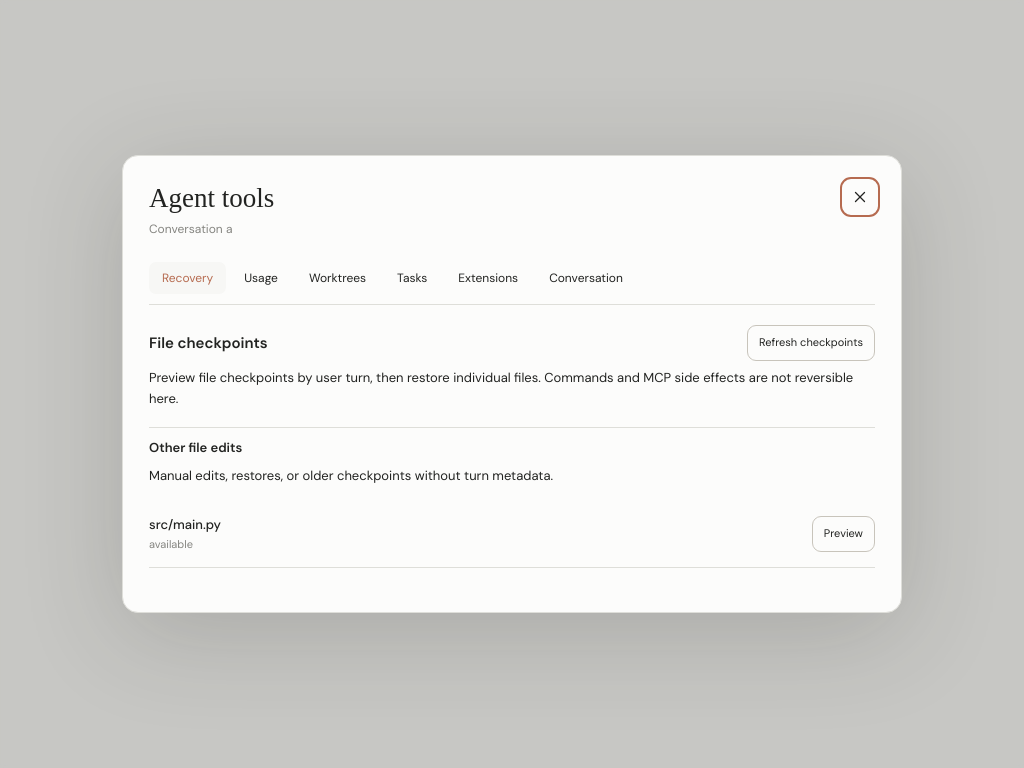
Test case: shows a separate per-conversation usage graph and estimated DBU cost
Check: the button with aria-label "Preview checkpoint src/main.py" is shown, box x1=812 y1=516 x2=875 y2=552
Click the button "Usage" at (261, 278), box x1=231 y1=262 x2=291 y2=294
(page scrolled)
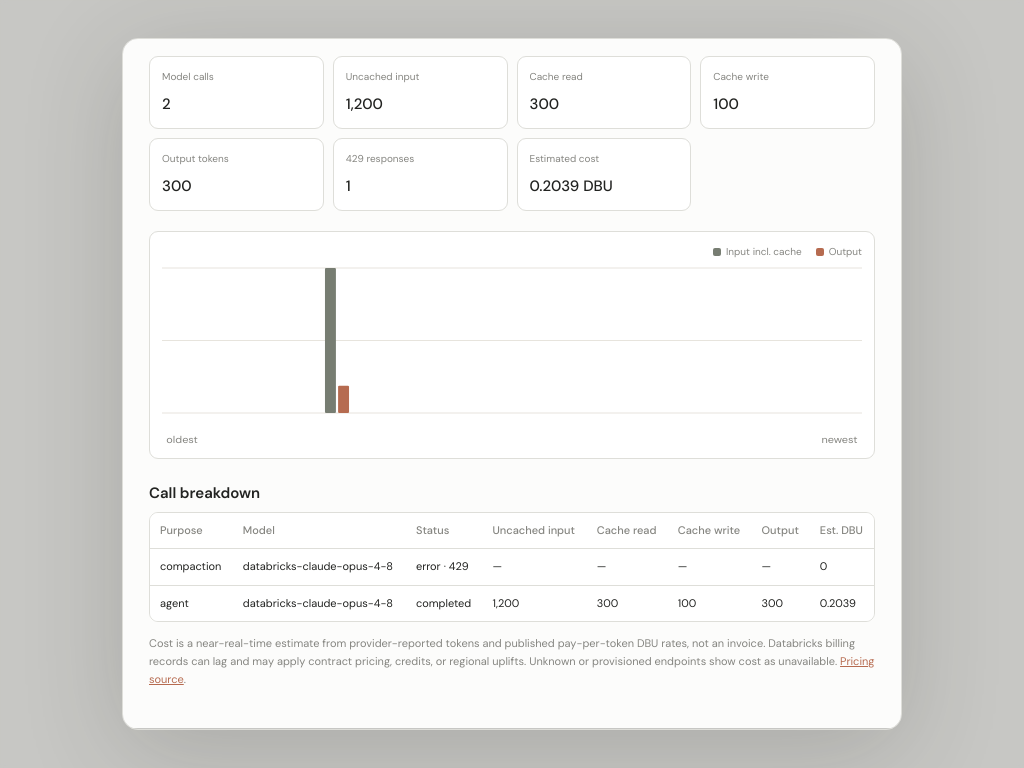
Check: the text "0.2039 DBU" is shown, box x1=530 y1=176 x2=613 y2=196
Check: the text "Input incl. cache" is shown, box x1=713 y1=244 x2=802 y2=260
Check: the picture named "Tokens by model call" is shown, box x1=162 y1=260 x2=862 y2=450
